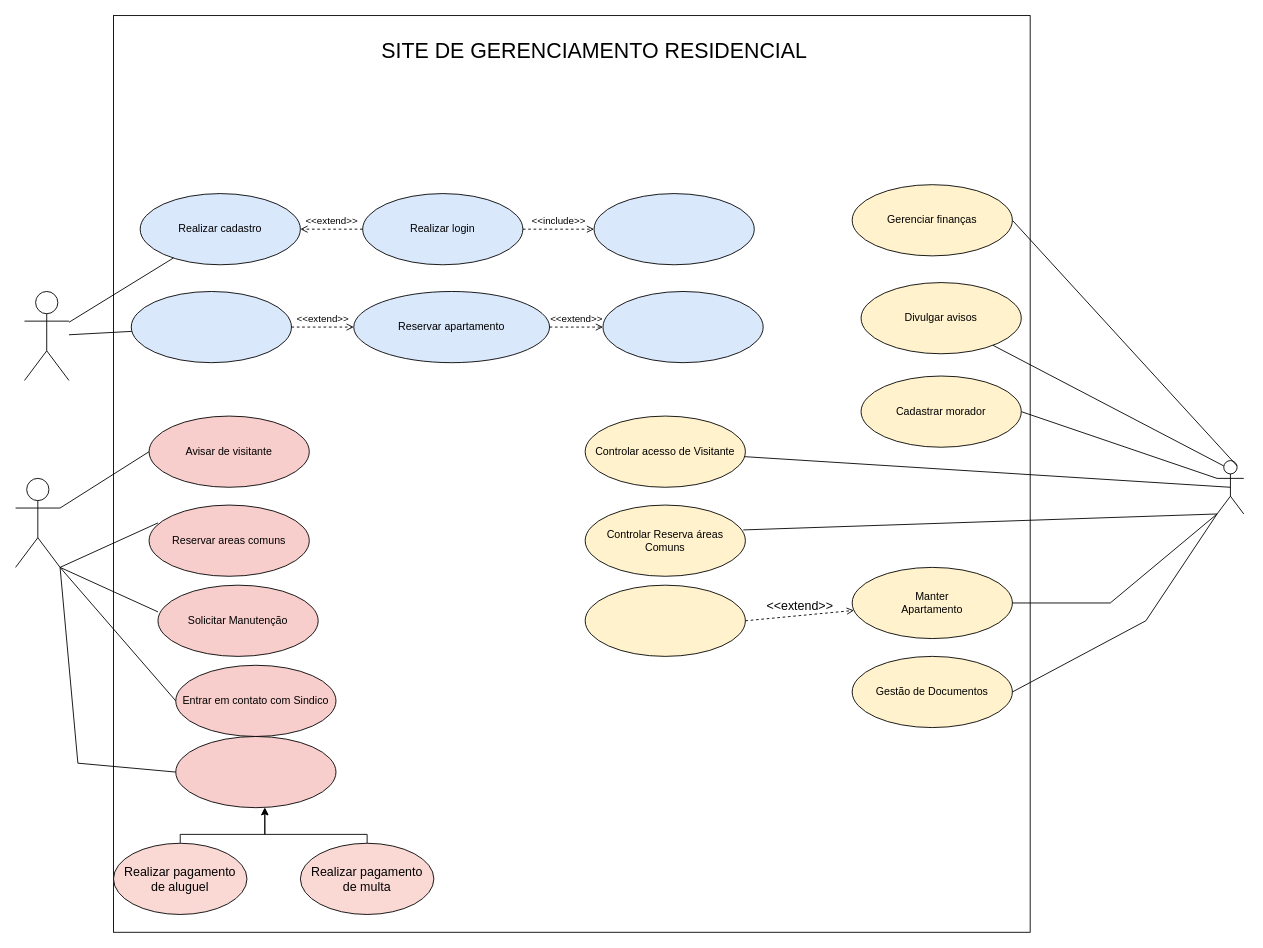
Some shapes in this 1263 by 948 pixel diagram are drawn without their labels. Each missing label, with the centre of its shape:
"Acessar menu de apartamentos" belongs at [210,327].
"Acessar plataforma" belongs at [673,229].
"Atualizar Status Apartamento" belongs at [664,620].
"Marcar Visita" belongs at [682,327].
"Morador" belongs at [37,522].
"Realizar pagamento" belongs at [255,772].
"Sindico" belongs at [1230,487].
"Usuario" belongs at [46,335].
